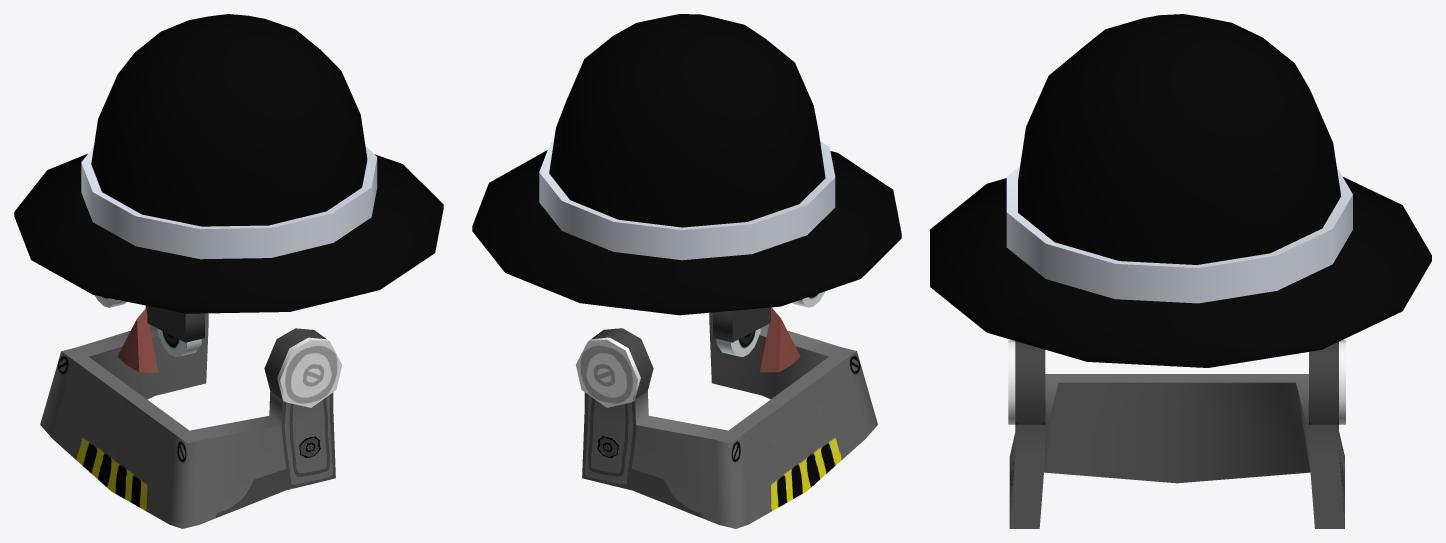
File: Bowler_Angry_Reboot.fbx
3 renders of one model, left to right at view 1: azimuth 30°, elevation 25°; view 2: azimuth 150°, elevation 25°; view 3: azimuth 270°, elevation 25°, orthographic. The views are drawn at different scales.
Visible parts, largest first — view 1: Head_Bowler, Mouth_Reboot, Eyes_FrownFace; view 2: Head_Bowler, Mouth_Reboot, Eyes_FrownFace; view 3: Head_Bowler, Mouth_Reboot.
Boxes of the visible parts, x1=… form: Head_Bowler: x1=14, y1=14, x2=443, y2=313; Mouth_Reboot: x1=40, y1=305, x2=341, y2=528; Eyes_FrownFace: x1=95, y1=295, x2=204, y2=372; Head_Bowler: x1=472, y1=14, x2=901, y2=315; Mouth_Reboot: x1=576, y1=307, x2=877, y2=528; Eyes_FrownFace: x1=713, y1=291, x2=825, y2=372; Head_Bowler: x1=930, y1=14, x2=1431, y2=367; Mouth_Reboot: x1=1008, y1=340, x2=1345, y2=528.
Size of the model in its own units: 97.09 by 109 by 96.38.
Materials: 3 (3 with a texture image).
